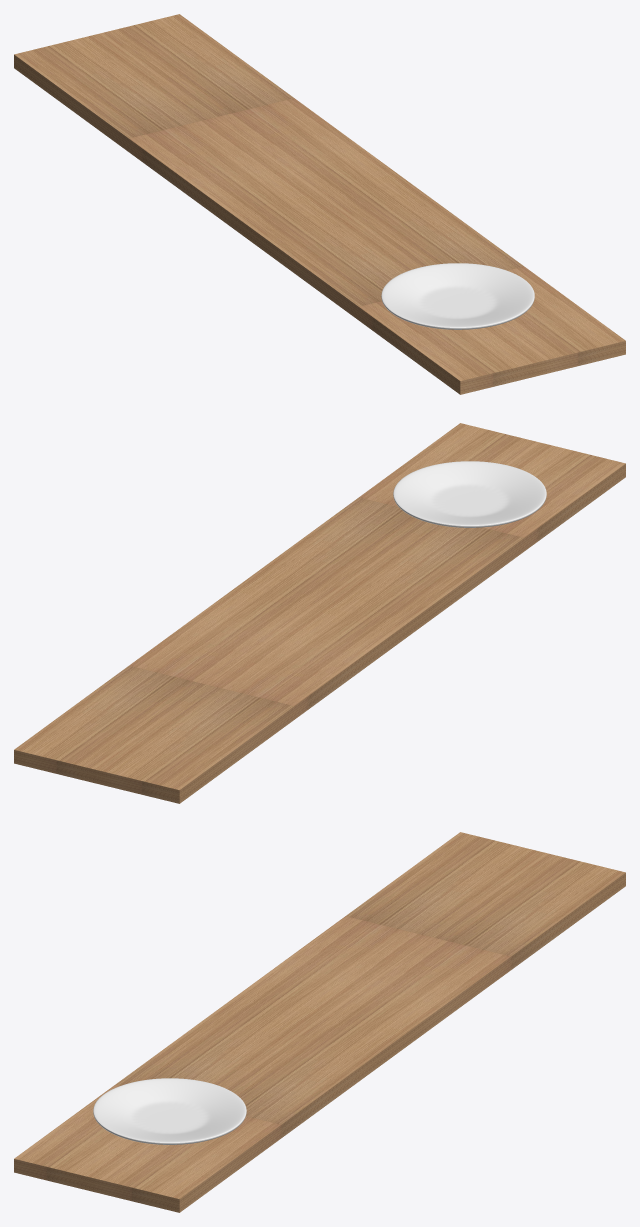
The model's file is Карта.glb.
3 renders of one model, top to bottom at view 1: azimuth 30°, elevation 25°; view 2: azimuth 150°, elevation 25°; view 3: azimuth 330°, elevation 25°, orthographic.
Parts seen in each view (by area): view 1: Cube.004, object 1; view 2: Cube.004, object 1; view 3: Cube.004, object 1.
Part boxes in pixels (left/top/right/bottom): Cube.004: left=14, top=14, right=625, bottom=394; object 1: left=381, top=263, right=534, bottom=329; Cube.004: left=14, top=423, right=625, bottom=803; object 1: left=393, top=461, right=546, bottom=527; Cube.004: left=14, top=832, right=625, bottom=1212; object 1: left=93, top=1078, right=246, bottom=1144.
Size of the model in its own units: 1.24 by 0.164 by 5.77.
2 materials, 2 textured.
